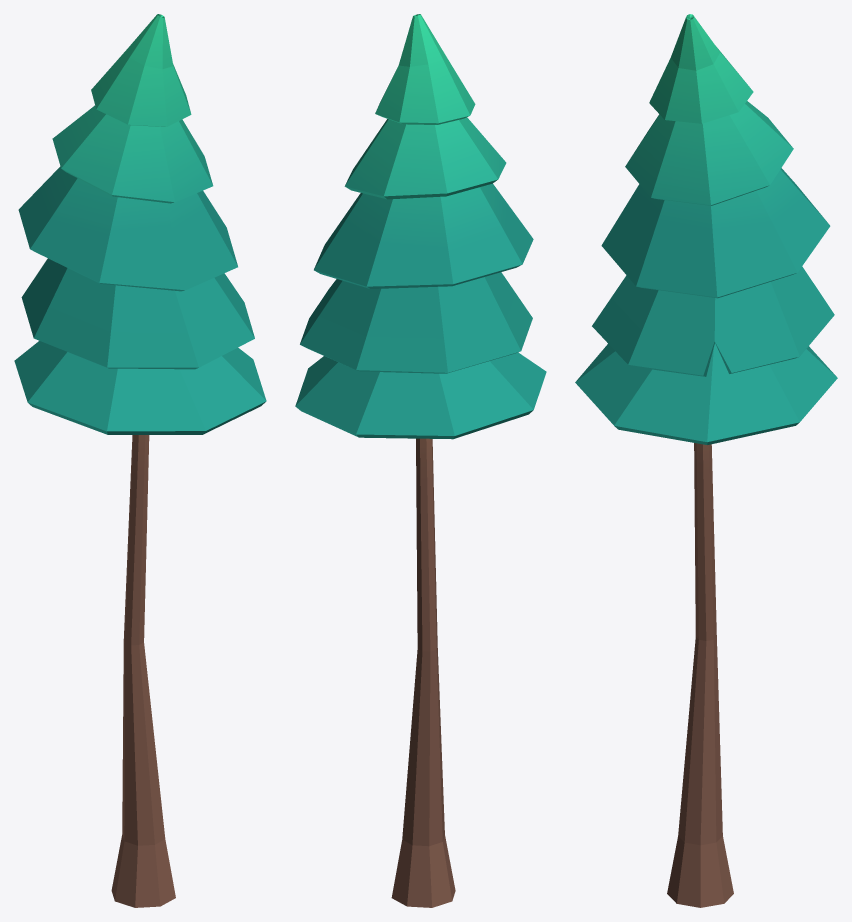
Rendered from tree05.obj.
3 renders of one model, left to right at view 1: azimuth 30°, elevation 25°; view 2: azimuth 150°, elevation 25°; view 3: azimuth 270°, elevation 25°, orthographic.
Visible parts, largest first — view 1: Cylinder_Cylinder.029; view 2: Cylinder_Cylinder.029; view 3: Cylinder_Cylinder.029.
Boxes of the visible parts, <box> form: Cylinder_Cylinder.029: <box>14,14,266,907</box>; Cylinder_Cylinder.029: <box>295,14,546,907</box>; Cylinder_Cylinder.029: <box>575,14,837,907</box>.
Bounding box in the file's own units: 6.22 × 23.08 × 6.22.
